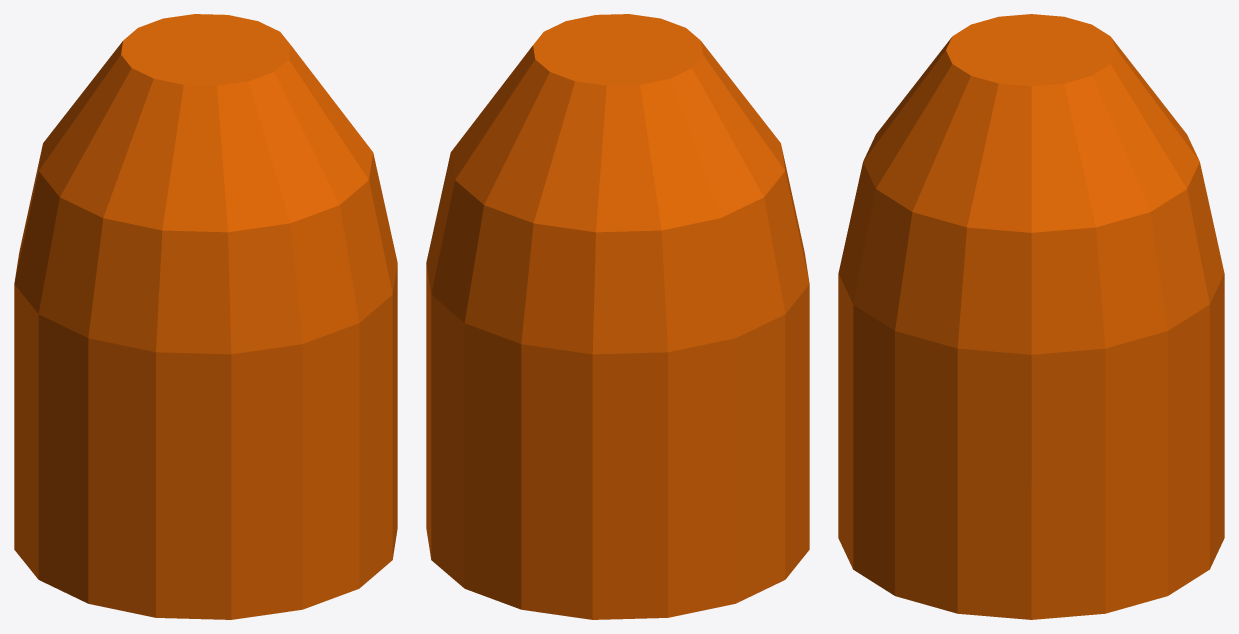
The model's file is 45ACP.fbx.
The picture shows the model from 3 angles, left to right: view 1: azimuth 30°, elevation 25°; view 2: azimuth 150°, elevation 25°; view 3: azimuth 270°, elevation 25°; orthographic projection.
Parts seen in each view (by area): view 1: Cylinder.002; view 2: Cylinder.002; view 3: Cylinder.002.
Part boxes in pixels (x1,y1,x2,y2): Cylinder.002: (14,14,397,619); Cylinder.002: (426,14,809,619); Cylinder.002: (838,14,1224,619).
Size of the model in its own units: 1.23 by 1.77 by 1.23.
